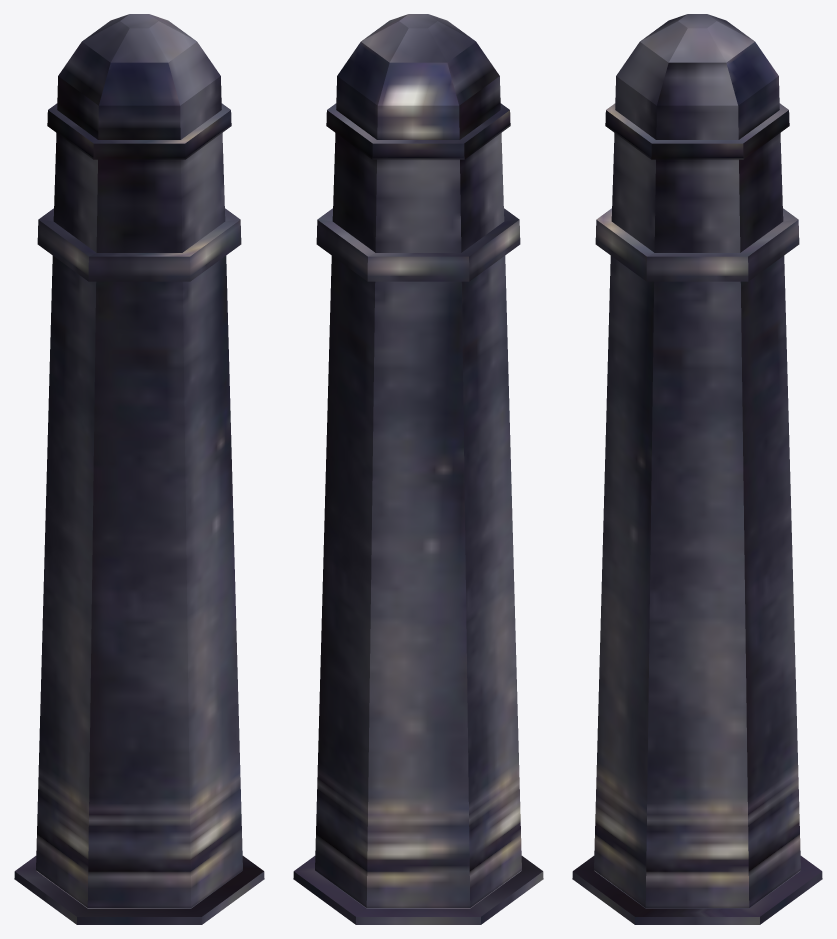
Rendered from Urban_RetroBollard_Model.fbx.
3 views of the same model, side by side, from view 1: azimuth 30°, elevation 25°; view 2: azimuth 150°, elevation 25°; view 3: azimuth 270°, elevation 25° (orthographic).
Visible parts, largest first — view 1: Urban_RetroBollard_Mesh; view 2: Urban_RetroBollard_Mesh; view 3: Urban_RetroBollard_Mesh.
Part boxes in pixels (bbox=[...]): Urban_RetroBollard_Mesh: bbox=[14, 14, 264, 924]; Urban_RetroBollard_Mesh: bbox=[293, 14, 543, 924]; Urban_RetroBollard_Mesh: bbox=[572, 14, 822, 924].
Size of the model in its own units: 0.2974 by 1.3 by 0.3434.
